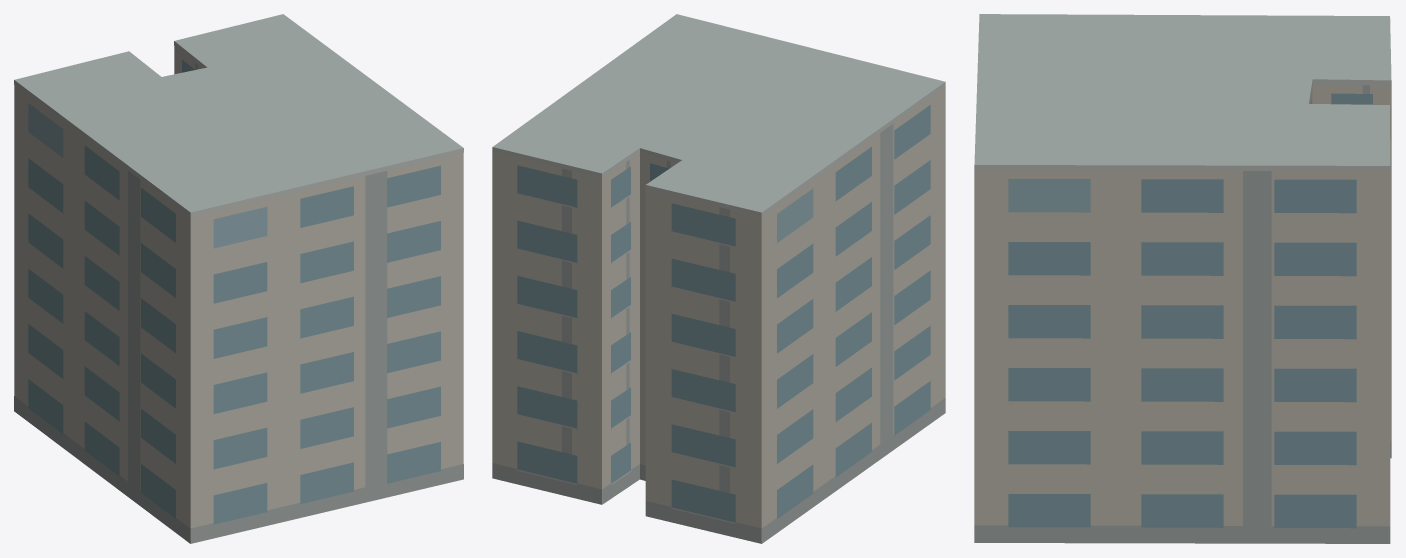
File: survey-upis-32823802.glb
The picture shows the model from 3 angles, left to right: view 1: azimuth 30°, elevation 25°; view 2: azimuth 150°, elevation 25°; view 3: azimuth 270°, elevation 25°; orthographic projection. The views are drawn at different scales.
Parts seen in each view (by area): view 1: survey-upis-32823802.tmp; view 2: survey-upis-32823802.tmp; view 3: survey-upis-32823802.tmp.
Part boxes in pixels (x1,y1,x2,y2): survey-upis-32823802.tmp: (14,14,463,543); survey-upis-32823802.tmp: (492,14,945,543); survey-upis-32823802.tmp: (974,14,1391,543).
Size of the model in its own units: 14.92 by 17.3 by 17.31.
